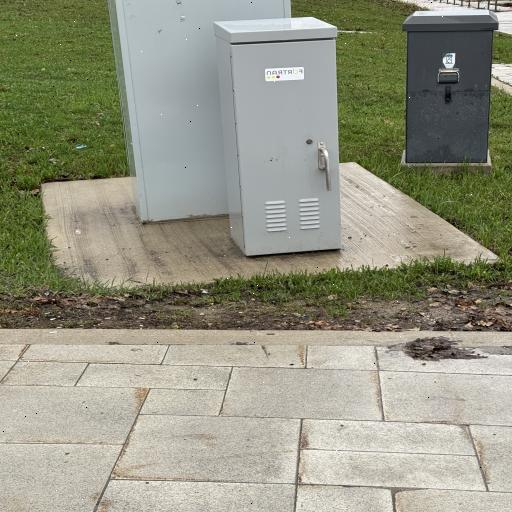Electrical Box: (108, 0, 339, 259), (396, 6, 497, 165)
